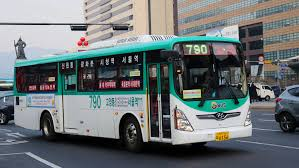out: (138, 34, 254, 149)
